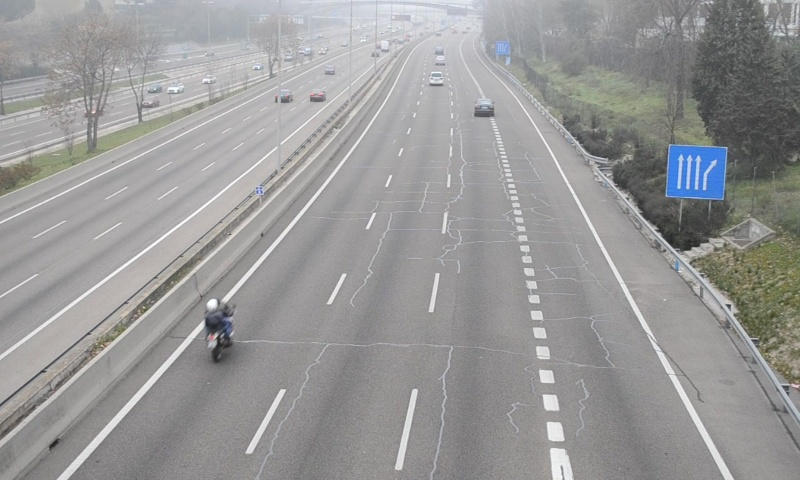car: (473, 97, 494, 116), (428, 72, 444, 87)
motorcycle: (202, 298, 234, 364)
